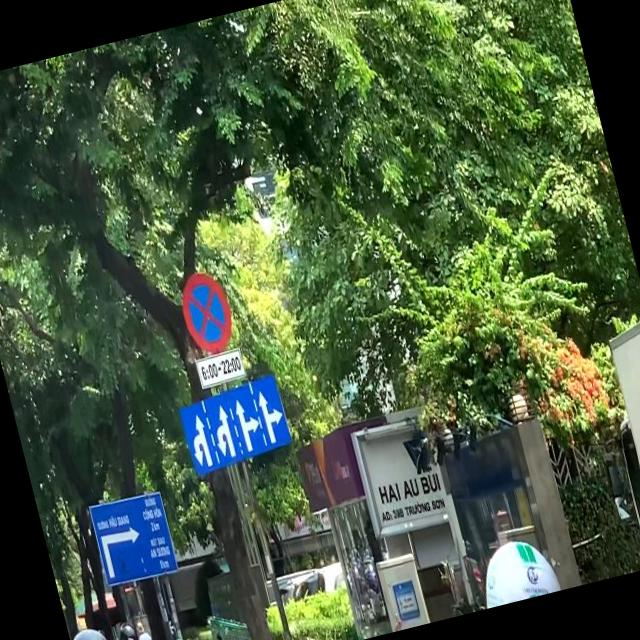P-130: (175, 266, 240, 358)
